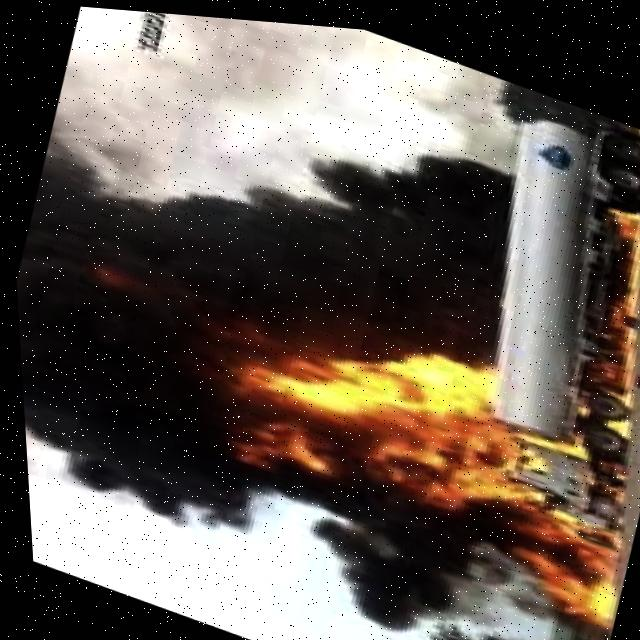Fire: (233, 256, 631, 543), (490, 524, 607, 619)
Smoke: (0, 1, 537, 620)
